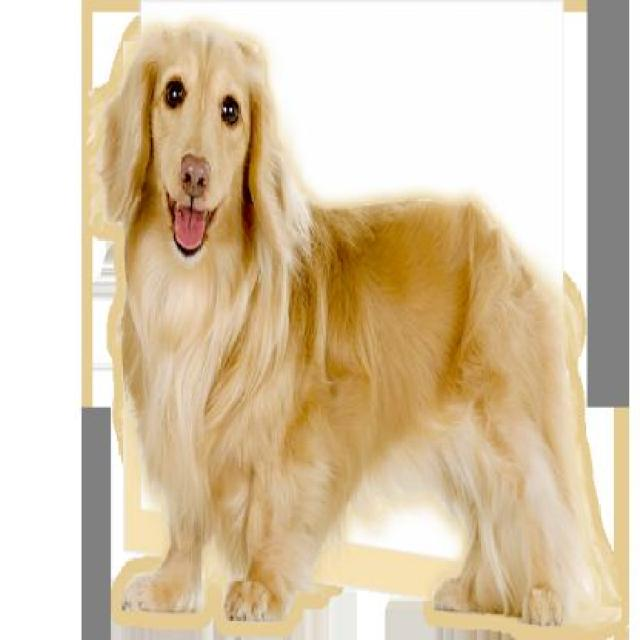Dog: (88, 24, 610, 638)
